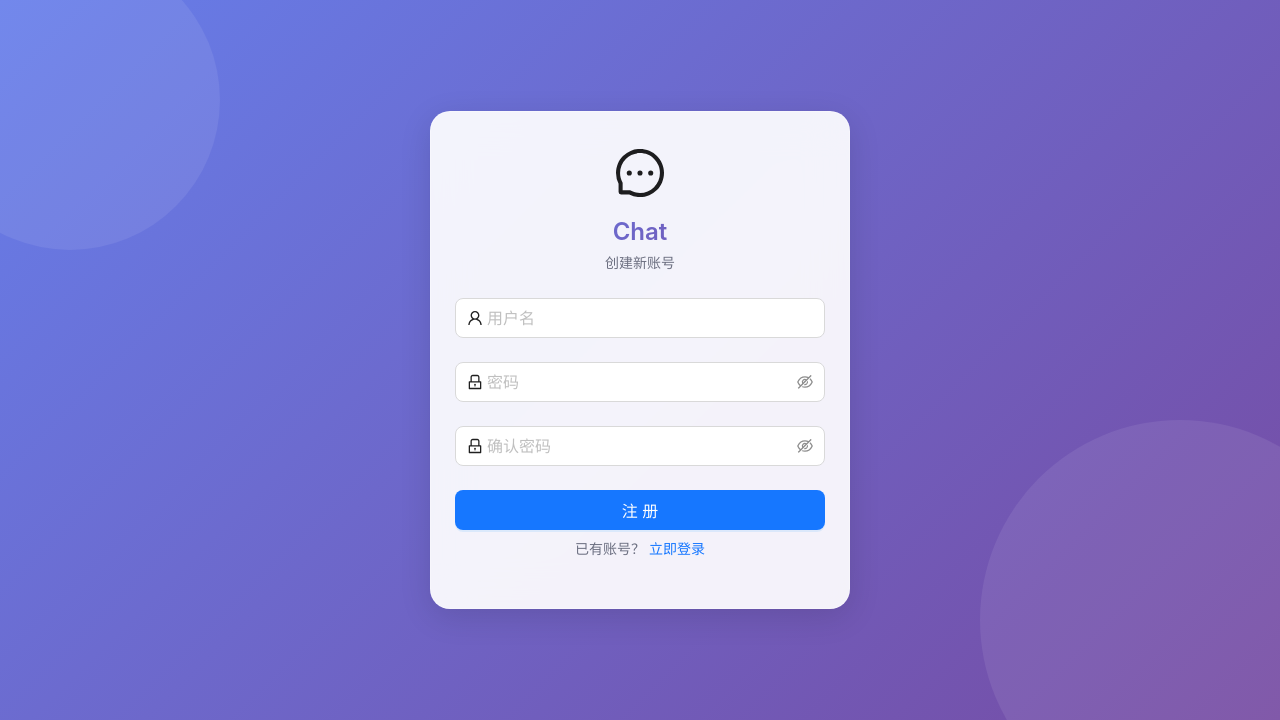
it: Register - Validation & Error (v0.2.0) › 1.2.2: shows validation error when username is empty
Click the button "注 册".
click(640, 510)  # box [455,490,825,530]
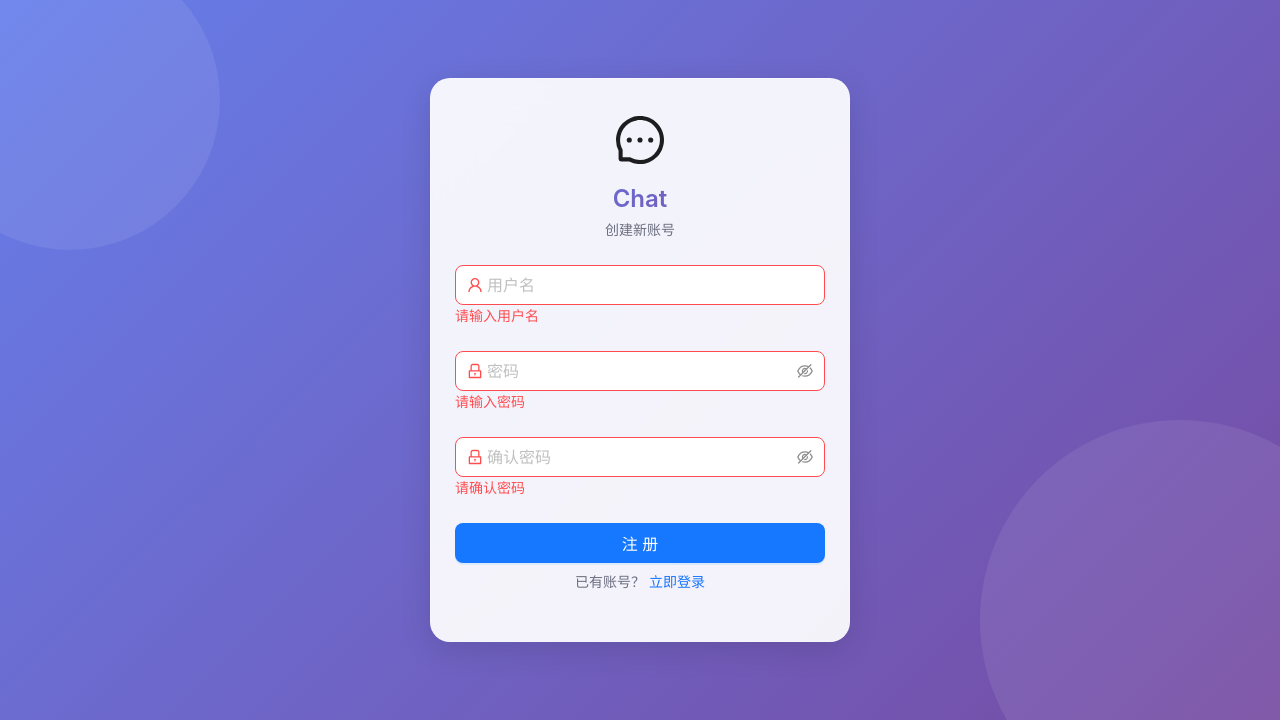
Expected: the text "请输入用户名" is shown, [455,307,539,324]
